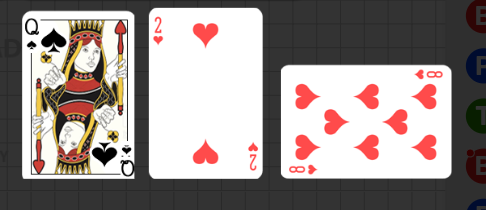2H: (152, 16, 165, 47)
8H: (288, 163, 320, 176), (413, 69, 444, 81)
